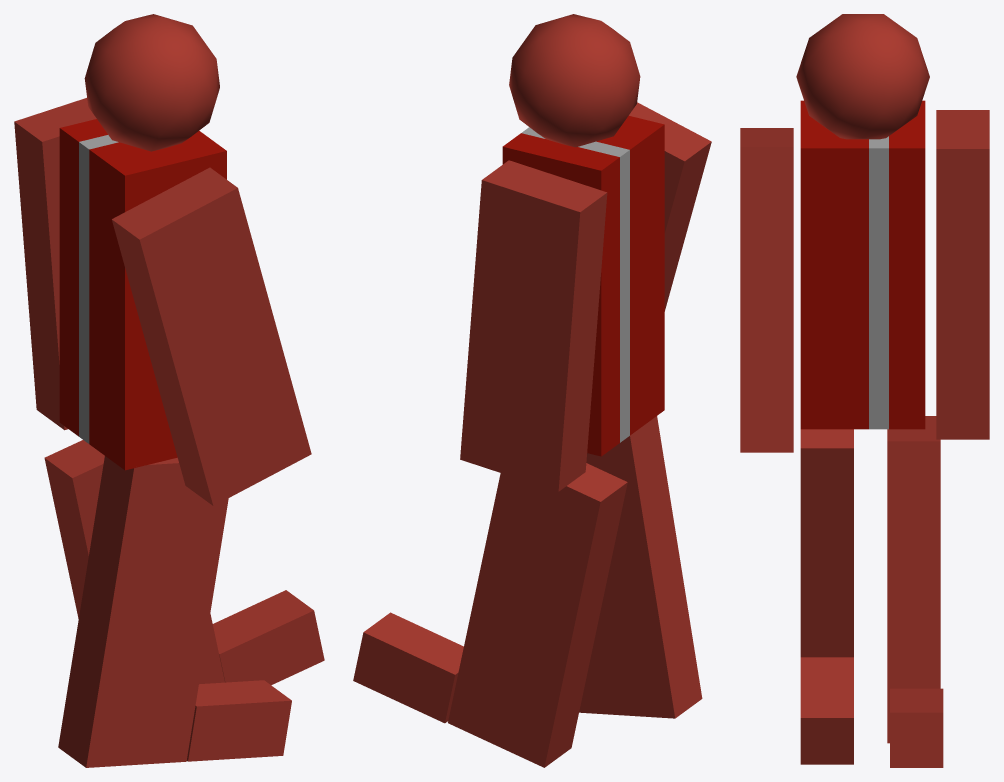
File: player_000046.obj
3 renders of one model, left to right at view 1: azimuth 30°, elevation 25°; view 2: azimuth 150°, elevation 25°; view 3: azimuth 270°, elevation 25°, orthographic. The views are drawn at different scales.
Parts seen in each view (by area): view 1: Cube.013, Cube.010, Cube.007, Icosphere.001, Cube.012, Cube.009, Cube.011, Cube.008; view 2: Cube.012, Cube.008, Cube.007, Cube.010, Icosphere.001, Cube.009, Cube.013; view 3: Cube.007, Cube.012, Cube.013, Cube.008, Icosphere.001, Cube.010, Cube.011, Cube.009.
Part boxes in pixels (x1,y1,x2,y2): Cube.013: (112, 167, 311, 505); Cube.010: (58, 456, 228, 767); Cube.007: (59, 119, 226, 470); Icosphere.001: (84, 14, 219, 151); Cube.012: (14, 98, 96, 430); Cube.009: (212, 590, 324, 685); Cube.011: (186, 680, 291, 761); Cube.008: (44, 440, 224, 684); Cube.012: (460, 160, 607, 491); Cube.008: (448, 463, 627, 767); Cube.007: (502, 116, 664, 456); Cube.010: (579, 416, 702, 718); Icosphere.001: (509, 14, 640, 147); Cube.009: (353, 612, 463, 723); Cube.013: (629, 102, 711, 311); Cube.007: (800, 100, 925, 429); Cube.012: (936, 110, 989, 439); Cube.013: (740, 128, 793, 452); Cube.008: (887, 416, 940, 743); Icosphere.001: (796, 14, 929, 139); Cube.010: (800, 429, 853, 657); Cube.011: (800, 657, 853, 764); Cube.009: (890, 688, 943, 767).
Bounding box in the file's own units: 1.15 × 2.85 × 0.9137.
